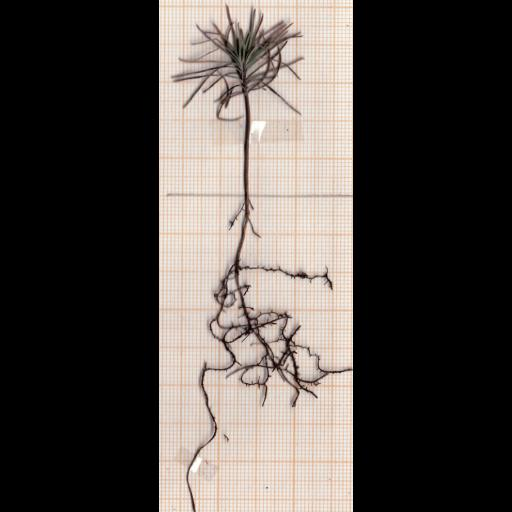flowerCedr: (173, 6, 301, 121)
rootCedr: (203, 214, 351, 406)
stemCedr: (244, 91, 253, 219)
